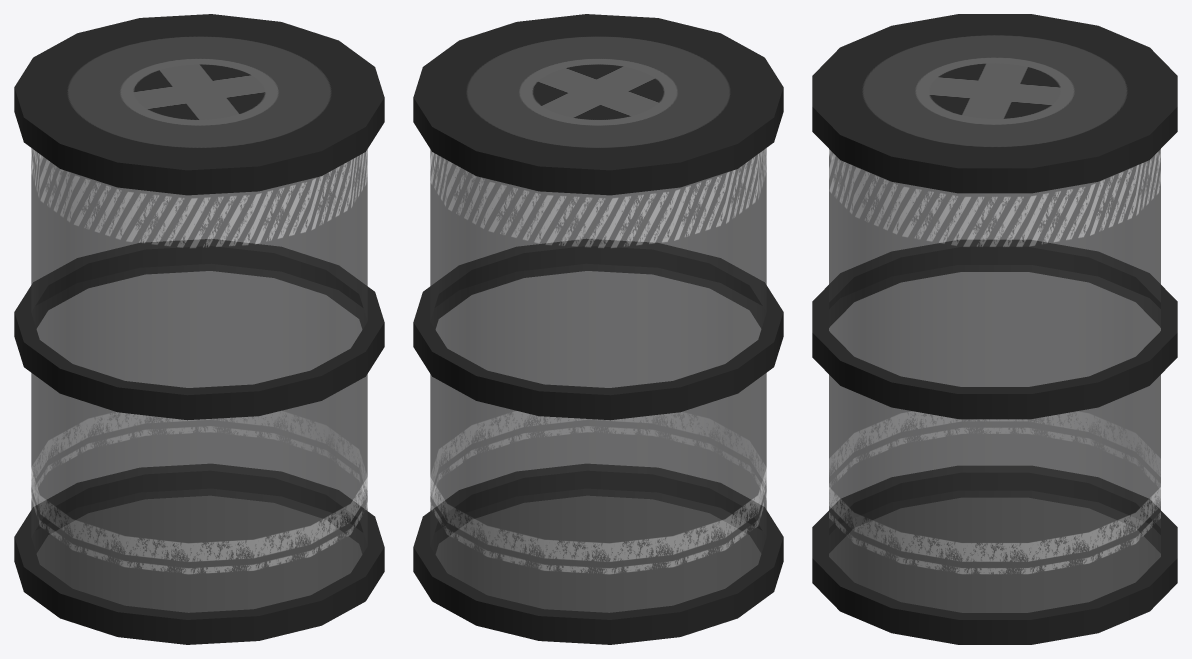
File: BarrelNormal.fbx
3 renders of one model, left to right at view 1: azimuth 30°, elevation 25°; view 2: azimuth 150°, elevation 25°; view 3: azimuth 270°, elevation 25°, orthographic.
Parts seen in each view (by area): view 1: Cylinder; view 2: Cylinder; view 3: Cylinder.
Part boxes in pixels (box(x1,y1,x2,y2)): Cylinder: box(14, 14, 384, 644); Cylinder: box(413, 14, 783, 644); Cylinder: box(812, 14, 1177, 644).
Bounding box in the file's own units: 165 × 238 × 165.
Materials: 2 (2 with a texture image).
